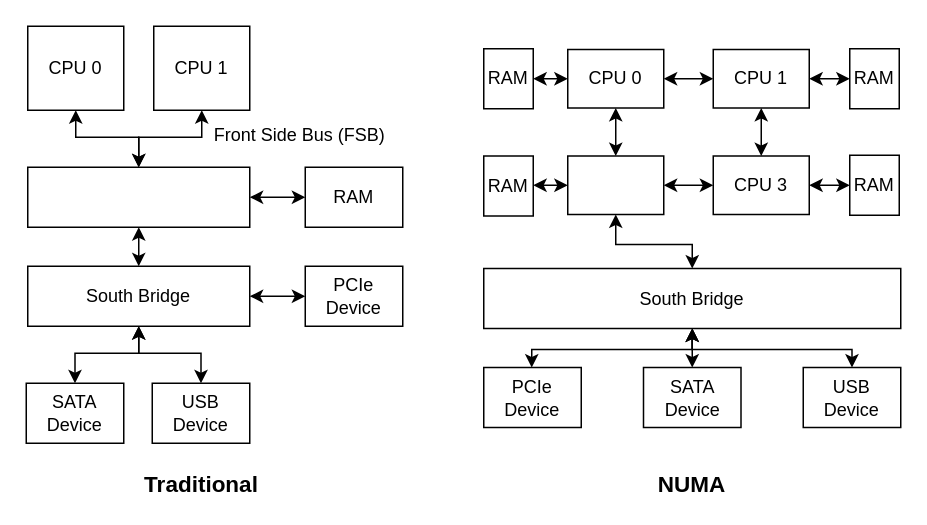
Image size: 927x525. Some labels were removed from this diagram. The centre of each missing label's shape, as x and y in pixels:
"CPU 2" belongs at (615,184).
"North Bridge" belongs at (138,196).
